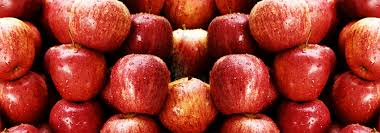apple: (155, 73, 223, 132), (43, 46, 105, 100), (110, 54, 165, 111), (211, 56, 276, 103), (276, 47, 334, 99), (69, 2, 130, 51), (123, 13, 181, 62), (325, 69, 375, 124), (249, 2, 315, 43), (170, 24, 218, 75), (270, 94, 332, 131), (208, 13, 259, 57), (344, 16, 380, 78), (1, 18, 37, 77), (51, 95, 96, 133)
